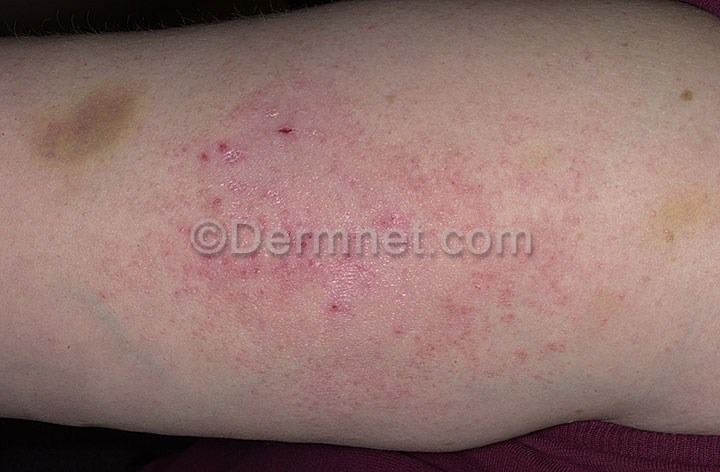Eczema: (166, 82, 648, 409), (78, 183, 162, 353)
